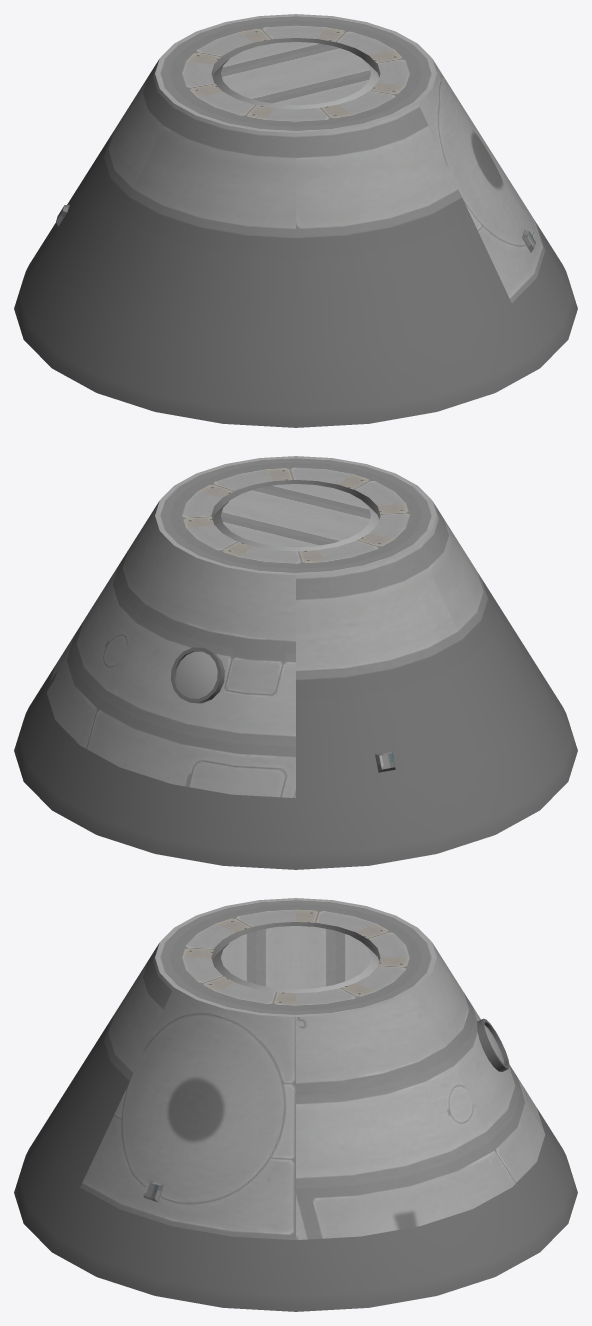
The model's file is Alnair_Crew_1.obj.
The picture shows the model from 3 angles, top to bottom: view 1: azimuth 30°, elevation 25°; view 2: azimuth 150°, elevation 25°; view 3: azimuth 270°, elevation 25°; orthographic projection.
Parts seen in each view (by area): view 1: Alnair_Crew_1; view 2: Alnair_Crew_1, Alnair_Crew_1_Window; view 3: Alnair_Crew_1.
Part boxes in pixels (box(x1,y1,x2,y2)): Alnair_Crew_1: box(14, 14, 577, 427); Alnair_Crew_1: box(14, 456, 577, 869); Alnair_Crew_1_Window: box(175, 651, 217, 698); Alnair_Crew_1: box(14, 898, 577, 1311).
Bounding box in the file's own units: 1.88 × 0.8625 × 1.88.
